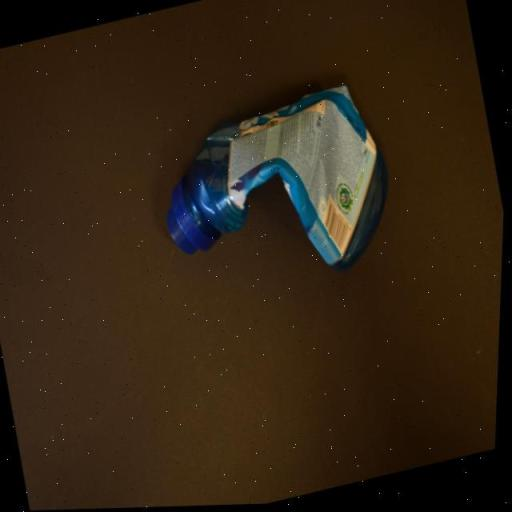plastic: (144, 74, 406, 306)
